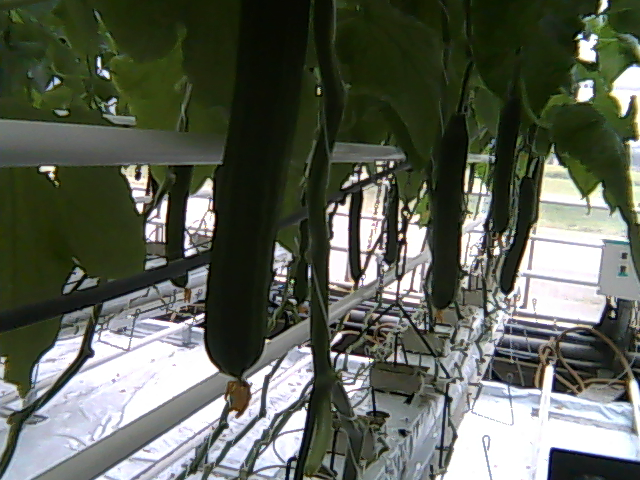concombre: (201, 1, 315, 427), (426, 101, 470, 329)
